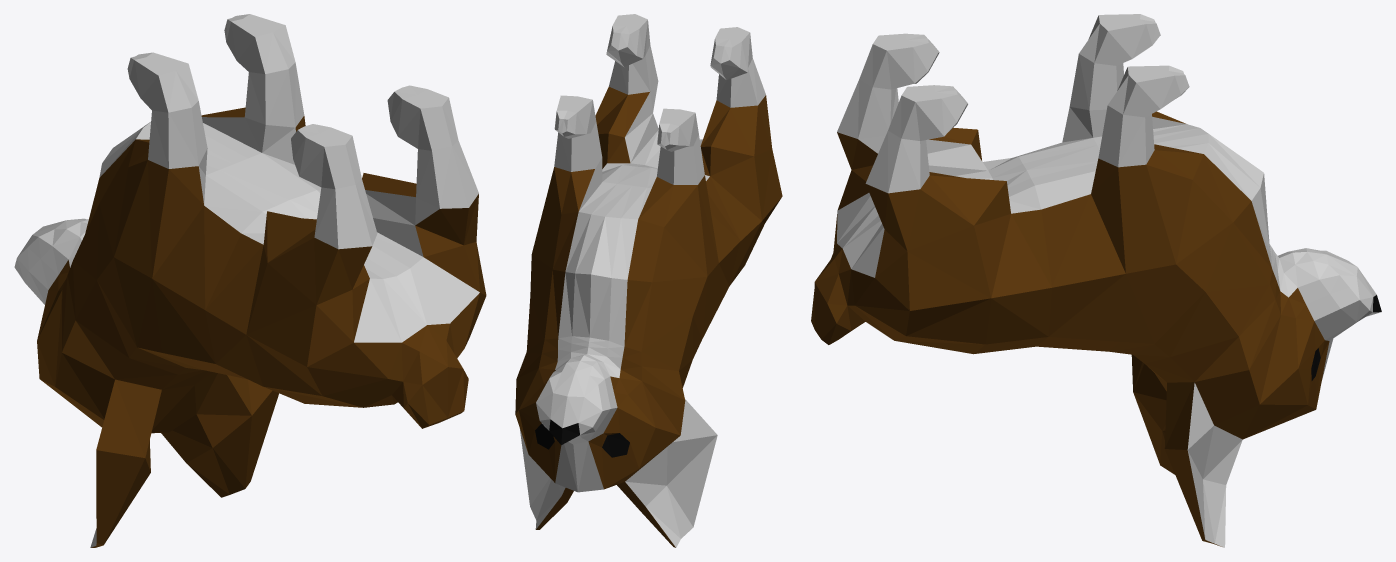
Rendered from dog.obj.
3 renders of one model, left to right at view 1: azimuth 30°, elevation 25°; view 2: azimuth 150°, elevation 25°; view 3: azimuth 270°, elevation 25°, orthographic. The views are drawn at different scales.
Visible parts, largest first — view 1: Cylinder; view 2: Cylinder; view 3: Cylinder.
Boxes of the visible parts, x1,y1,x2,y2 form: Cylinder: (14,14,486,547); Cylinder: (515,14,782,547); Cylinder: (811,14,1381,547).
Size of the model in its own units: 2.2 by 3.88 by 4.23.
